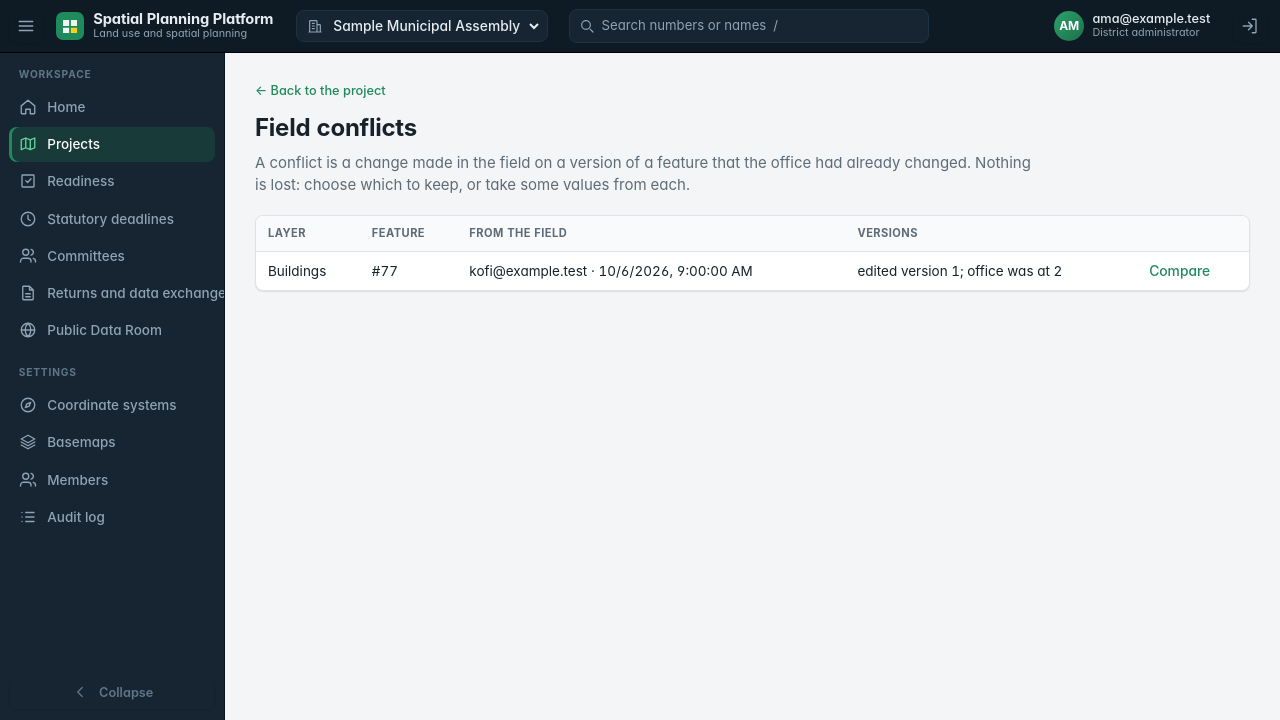
Test: field conflicts › is read-only for roles that can't resolve
This screenshot has width=1280, height=720.
Click the button "Compare": (1180, 271) [1146,263,1213,279]
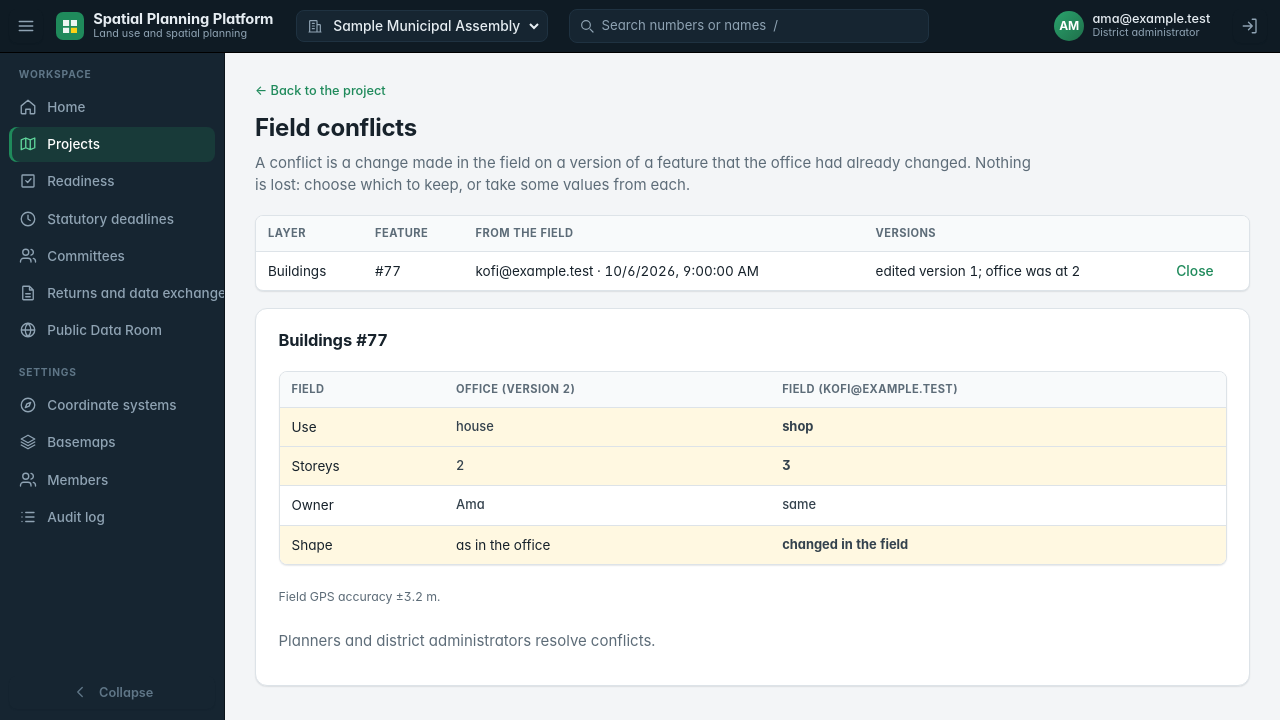
Expected: the text "Planners and district administrators resolve conflicts." is shown, [278,631,655,650]
